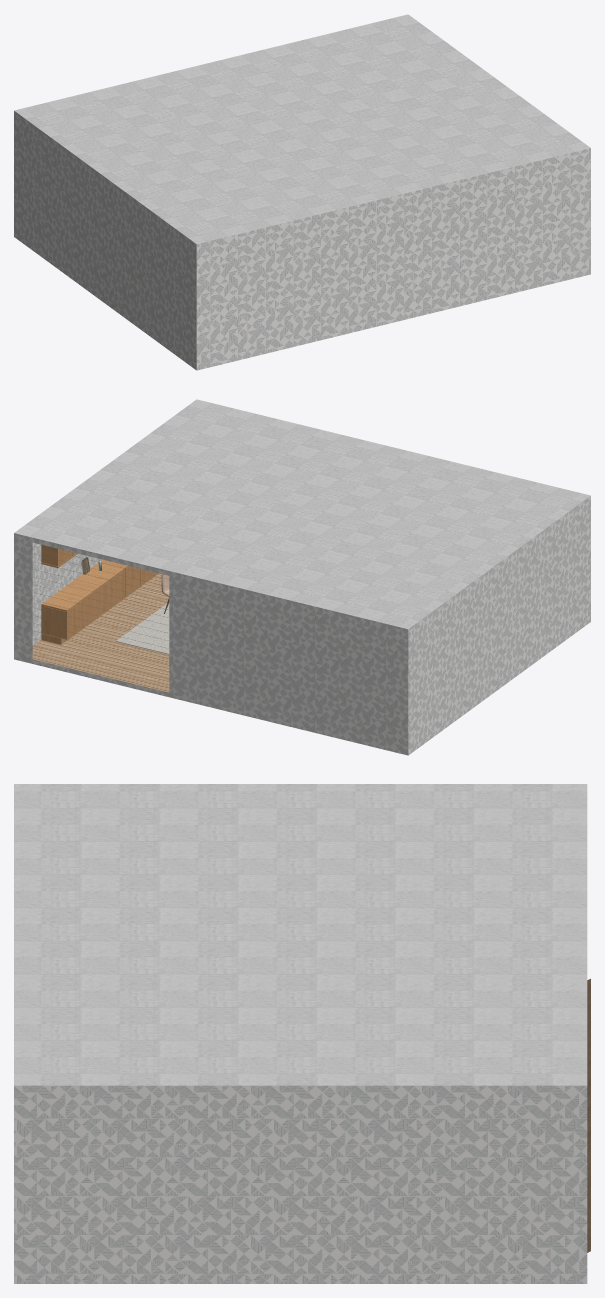
3 views of the same model, one above another, from view 1: azimuth 30°, elevation 25°; view 2: azimuth 150°, elevation 25°; view 3: azimuth 270°, elevation 25° (orthographic). The views are drawn at different scales.
Visible parts, largest first — view 1: ceiling, wallsR, wallsB; view 2: ceiling, wallsL, wallsB, floor, kitchen, wallsF, carpet, blinders; view 3: ceiling, wallsF, blinders.
Boxes of the visible parts, left/top/right/bottom form: ceiling: left=14, top=14, right=590, bottom=243; wallsR: left=196, top=148, right=590, bottom=370; wallsB: left=14, top=111, right=196, bottom=370; ceiling: left=14, top=399, right=590, bottom=628; wallsL: left=14, top=533, right=408, bottom=755; wallsB: left=408, top=496, right=590, bottom=755; floor: left=32, top=573, right=169, bottom=692; kitchen: left=41, top=544, right=158, bottom=644; wallsF: left=32, top=542, right=101, bottom=645; carpet: left=116, top=603, right=169, bottom=654; blinders: left=33, top=546, right=168, bottom=686; ceiling: left=14, top=784, right=587, bottom=1085; wallsF: left=14, top=1085, right=587, bottom=1283; blinders: left=587, top=978, right=590, bottom=1252.
Size of the model in its own units: 14.4 by 4.41 by 11.63.
14 materials, 14 textured.
